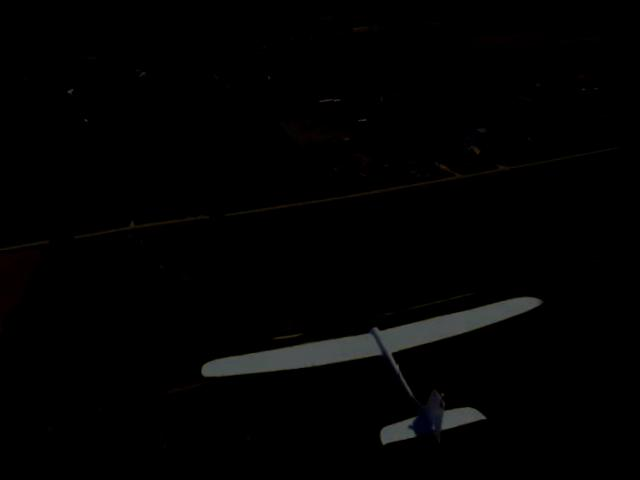uav: (185, 264, 579, 480)
